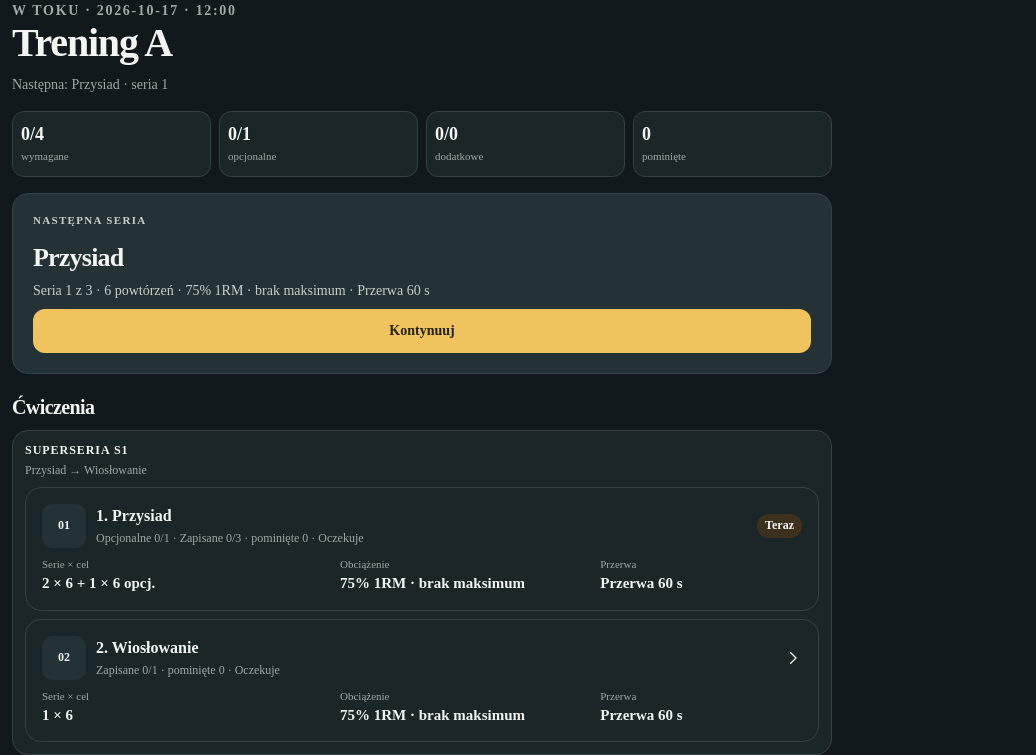
Test: błąd odczytu po zapisie ponawia wyłącznie GET, bez przejścia na ślepo
Click the button "1. Przysiad".
click(64, 526)  # box [26,488,818,610]
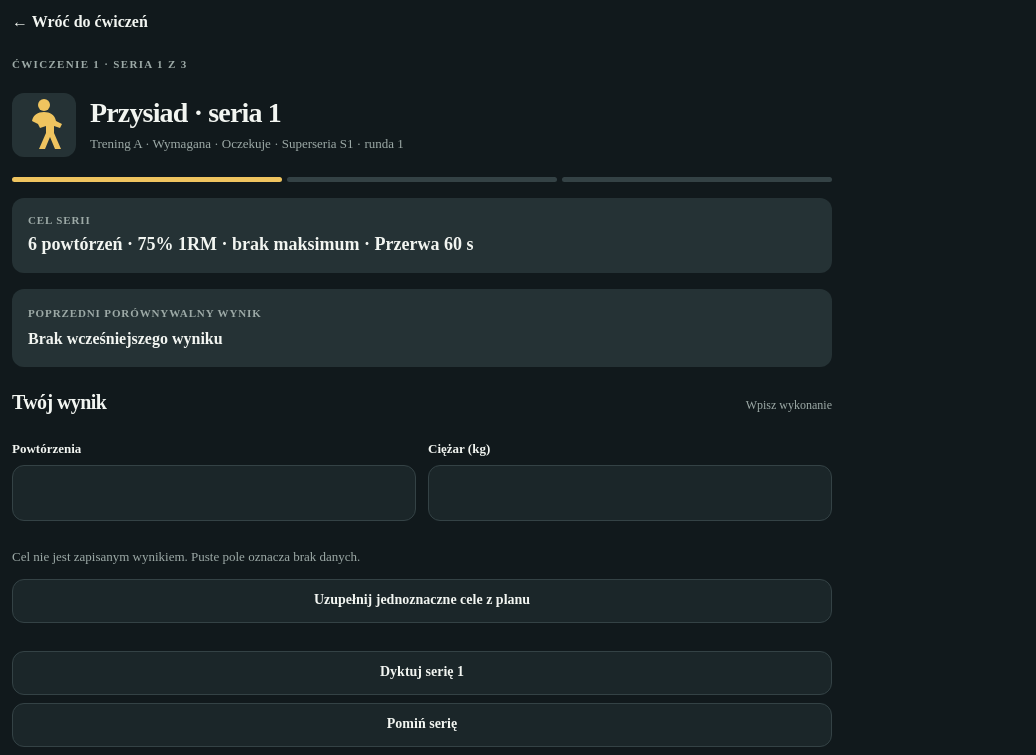
Type "6" into the number field labelled "Powtórzenia".
click(214, 493); type("6")  # box [12,465,416,521]
(page scrolled)
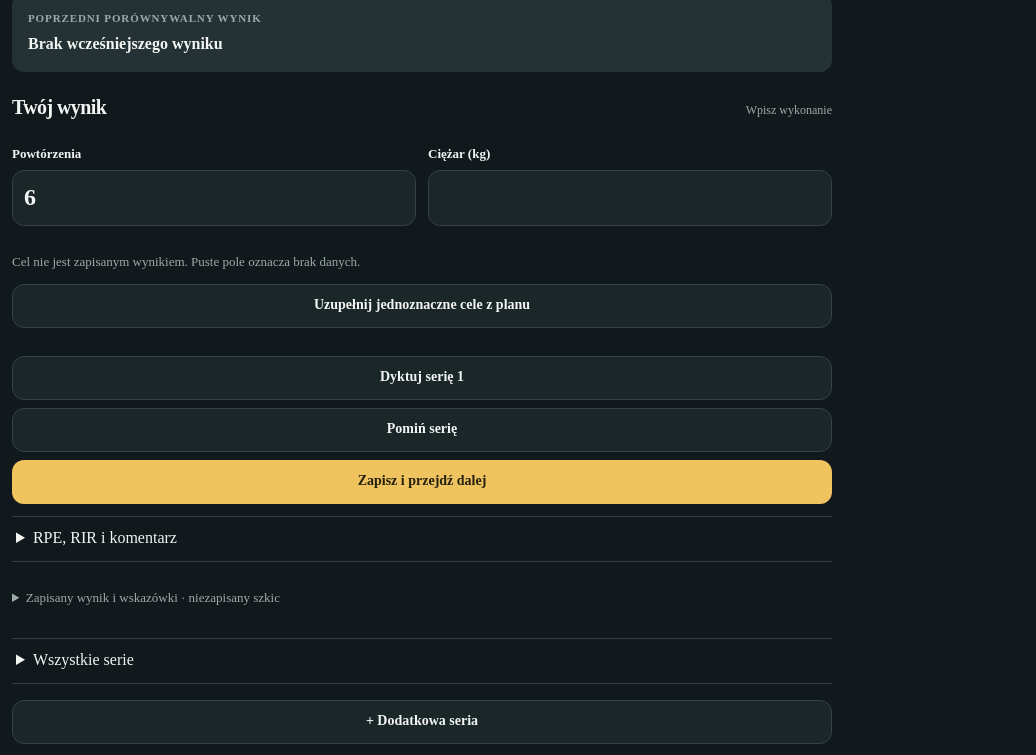
Click the button "Zapisz i przejdź dalej".
click(422, 482)  # box [12,460,832,504]
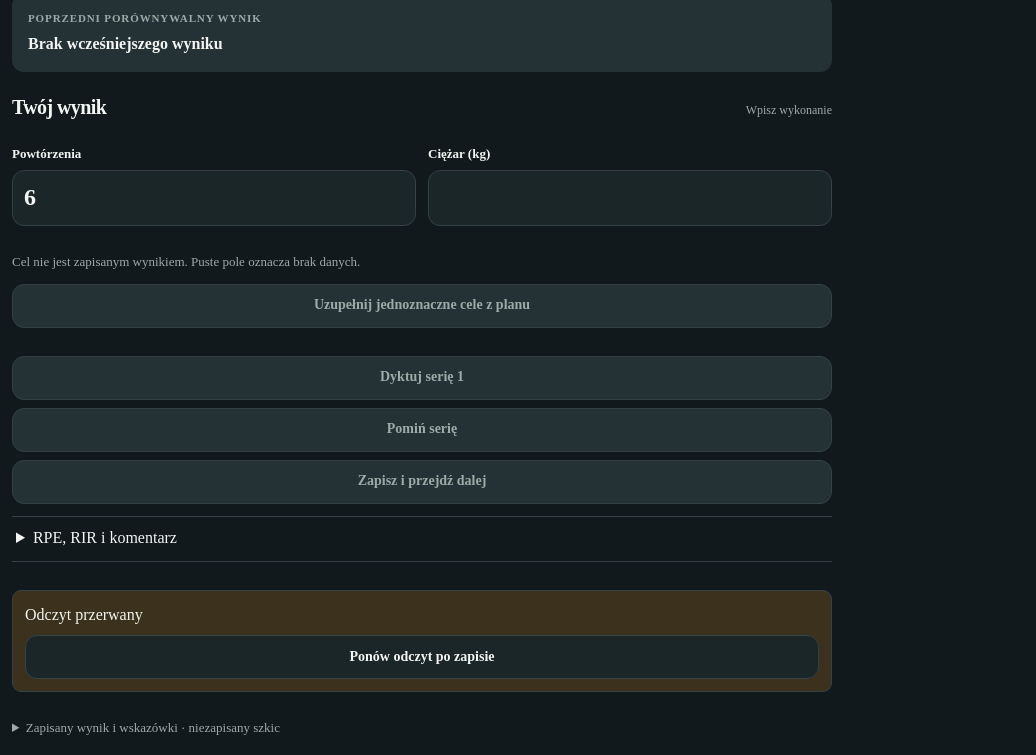
Result: the text "Odczyt przerwany" is shown at [25,606,143,622]
Click the button "Ponów odczyt po zapisie".
click(422, 657)  # box [25,635,819,679]
(page scrolled)
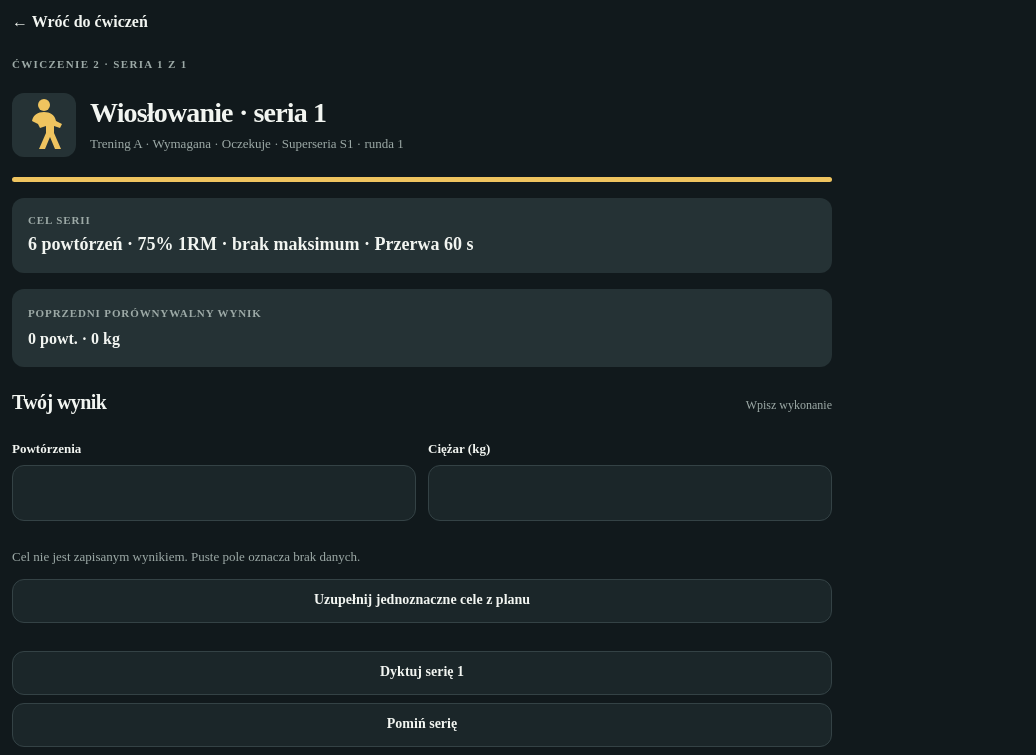
Result: the heading "Wiosłowanie · seria 1" is shown at [90,97,326,128]
